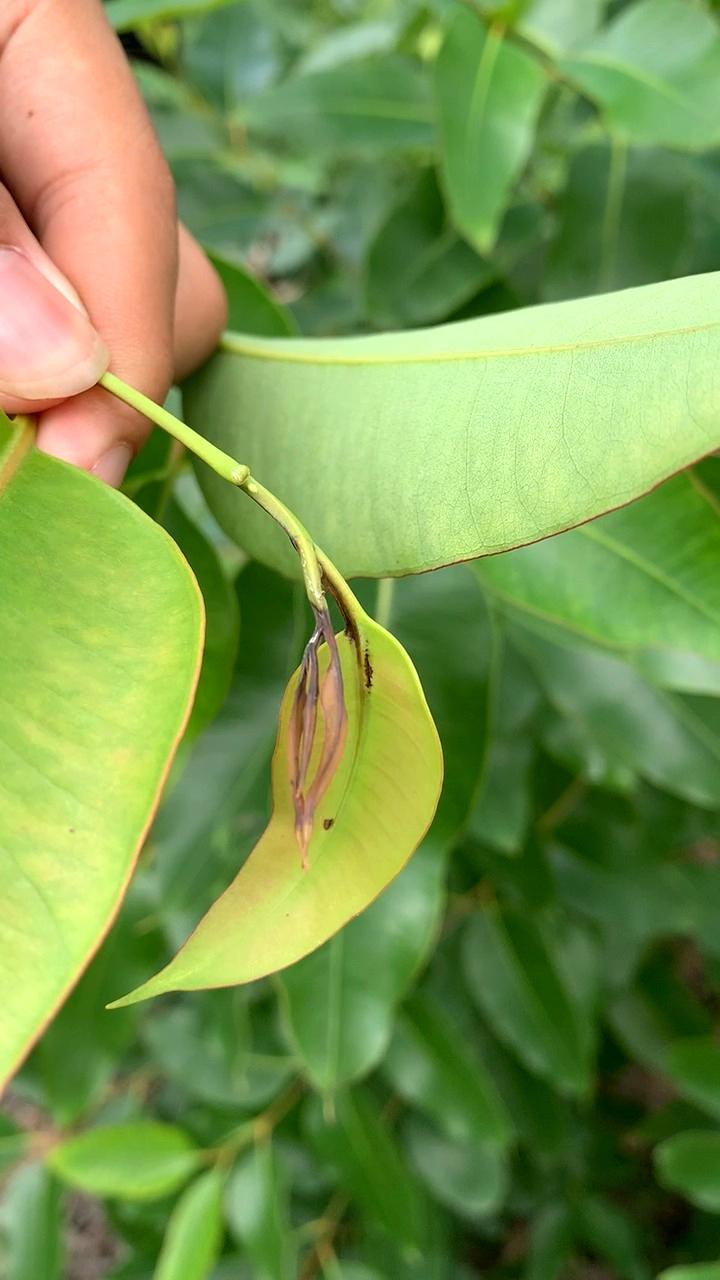Helopeltis-Withered Sprout: (255, 633, 367, 873)
